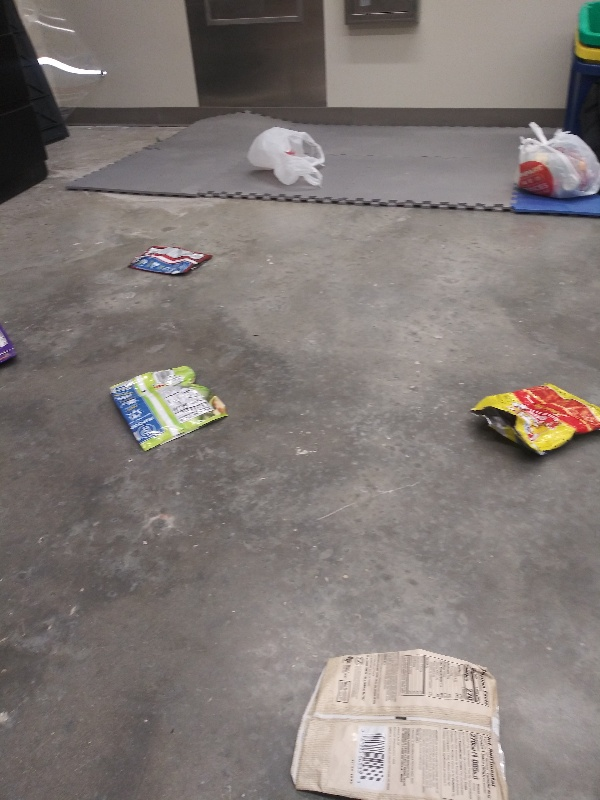bag: (285, 644, 514, 800), (104, 362, 236, 452), (471, 381, 600, 464), (124, 242, 215, 276), (1, 310, 17, 369)
